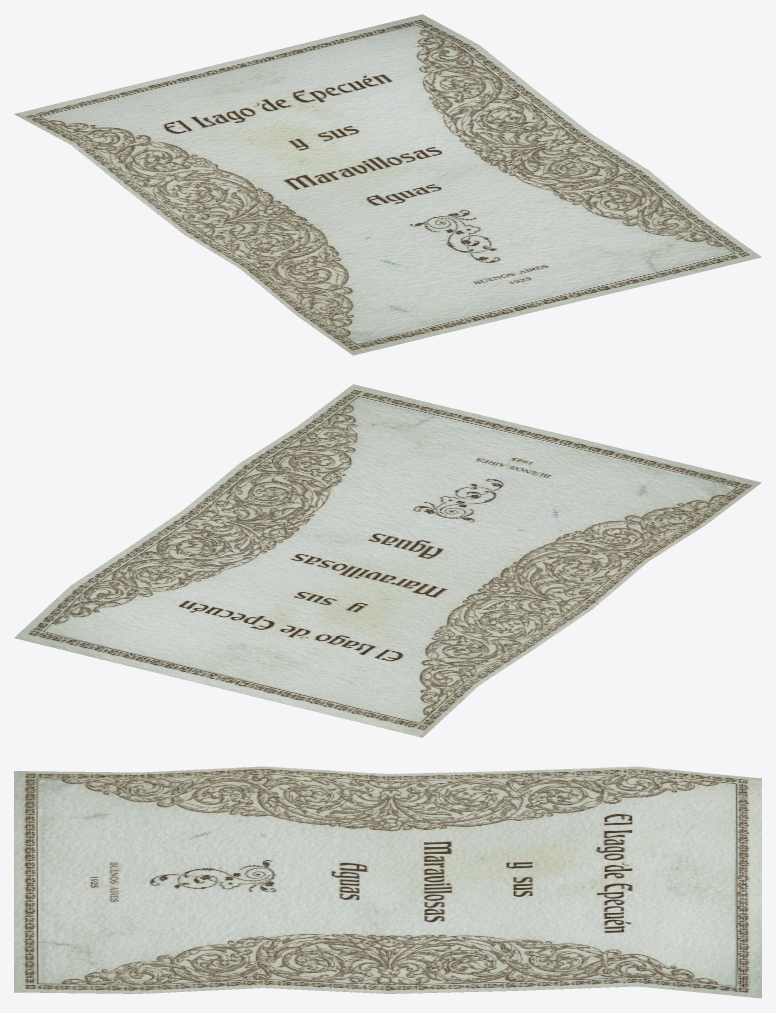
File: PaperB.fbx
The picture shows the model from 3 angles, top to bottom: view 1: azimuth 30°, elevation 25°; view 2: azimuth 150°, elevation 25°; view 3: azimuth 270°, elevation 25°; orthographic projection. The views are drawn at different scales.
Visible parts, largest first — view 1: Paper_B; view 2: Paper_B; view 3: Paper_B.
Part boxes in pixels (x1,y1,x2,y2): Paper_B: [14, 14, 761, 355]; Paper_B: [14, 384, 761, 737]; Paper_B: [14, 766, 761, 998].
Size of the model in its own units: 20.4 by 0.525 by 29.32.
2 materials, 1 textured.
